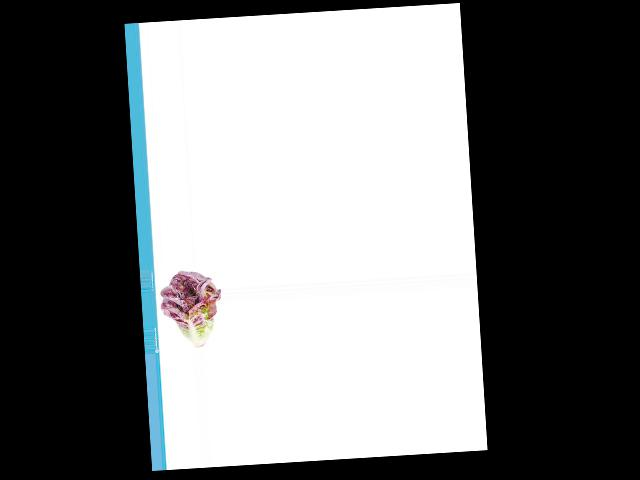lettuce: (158, 269, 222, 350)
